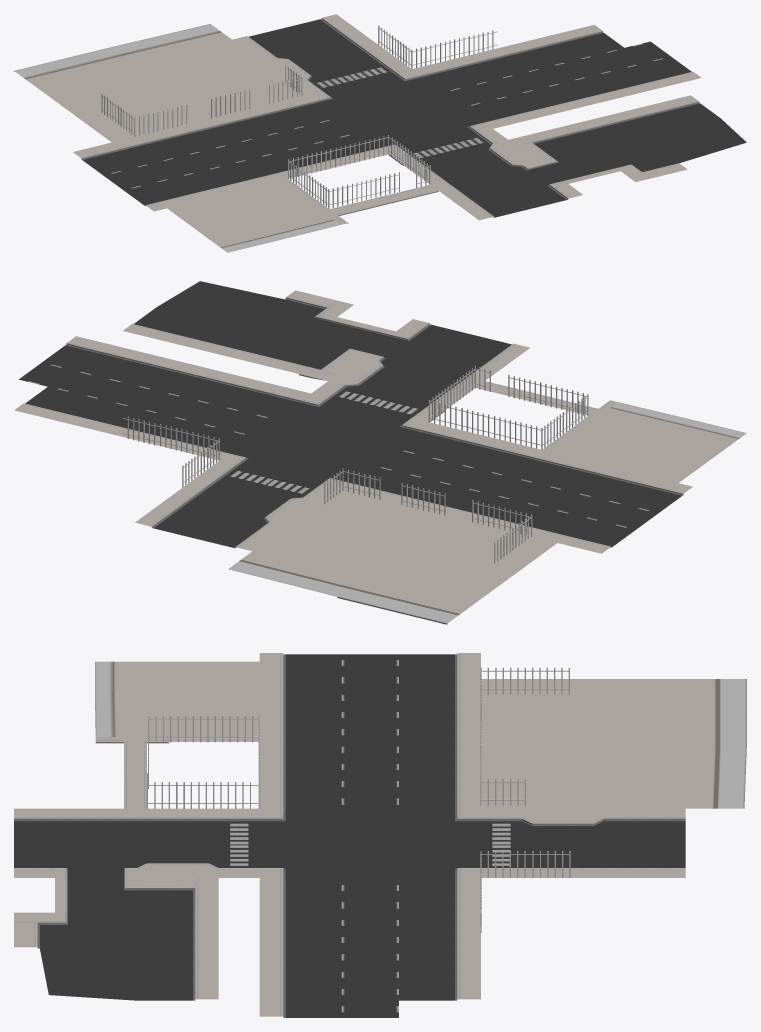
The model's file is Level17.FBX.
The picture shows the model from 3 angles, top to bottom: view 1: azimuth 30°, elevation 25°; view 2: azimuth 150°, elevation 25°; view 3: azimuth 270°, elevation 25°; orthographic projection. The views are drawn at different scales.
Parts seen in each view (by area): view 1: _Roads_L17, _Fence_L17; view 2: _Roads_L17, _Fence_L17; view 3: _Roads_L17, _Fence_L17.
Boxes of the visible parts, x1=… form: _Roads_L17: x1=14, y1=14, x2=746, y2=252; _Fence_L17: x1=101, y1=25, x2=497, y2=208; _Roads_L17: x1=14, y1=281, x2=746, y2=624; _Fence_L17: x1=122, y1=366, x2=588, y2=563; _Roads_L17: x1=14, y1=653, x2=746, y2=1017; _Fence_L17: x1=146, y1=667, x2=570, y2=932.
Bounding box in the file's own units: 210 × 7.59 × 179.
